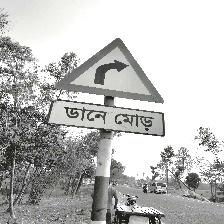Right-turn: (45, 38, 166, 140)
